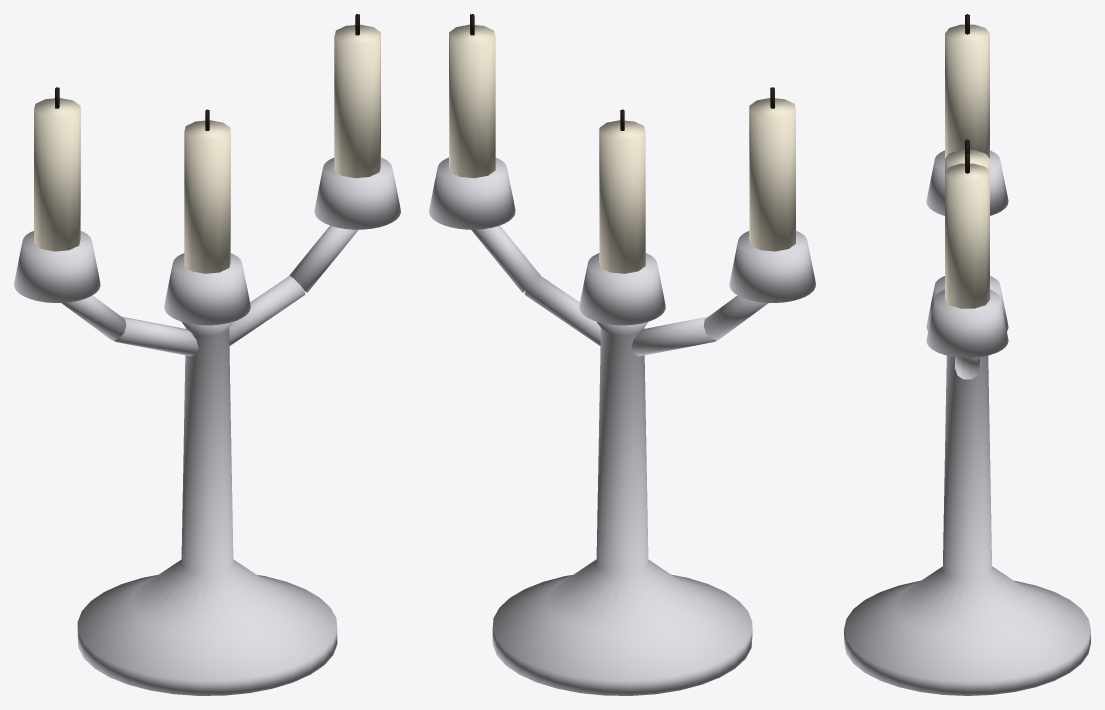
Rendered from silberleuchter.glb.
The picture shows the model from 3 angles, left to right: view 1: azimuth 30°, elevation 25°; view 2: azimuth 150°, elevation 25°; view 3: azimuth 270°, elevation 25°; orthographic projection. The views are drawn at different scales.
Parts seen in each view (by area): view 1: fuss; view 2: fuss; view 3: fuss.
Boxes of the visible parts, box(x1,y1,x2,y2) form: fuss: box(14, 14, 400, 695); fuss: box(429, 14, 815, 695); fuss: box(844, 14, 1090, 695).
Bounding box in the file's own units: 0.2 × 0.3 × 0.12.
